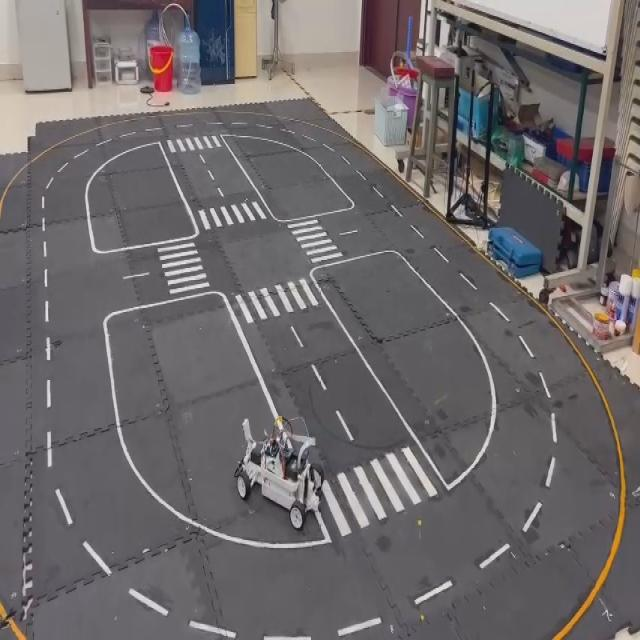SiCo-CAR: (233, 412, 325, 531)
